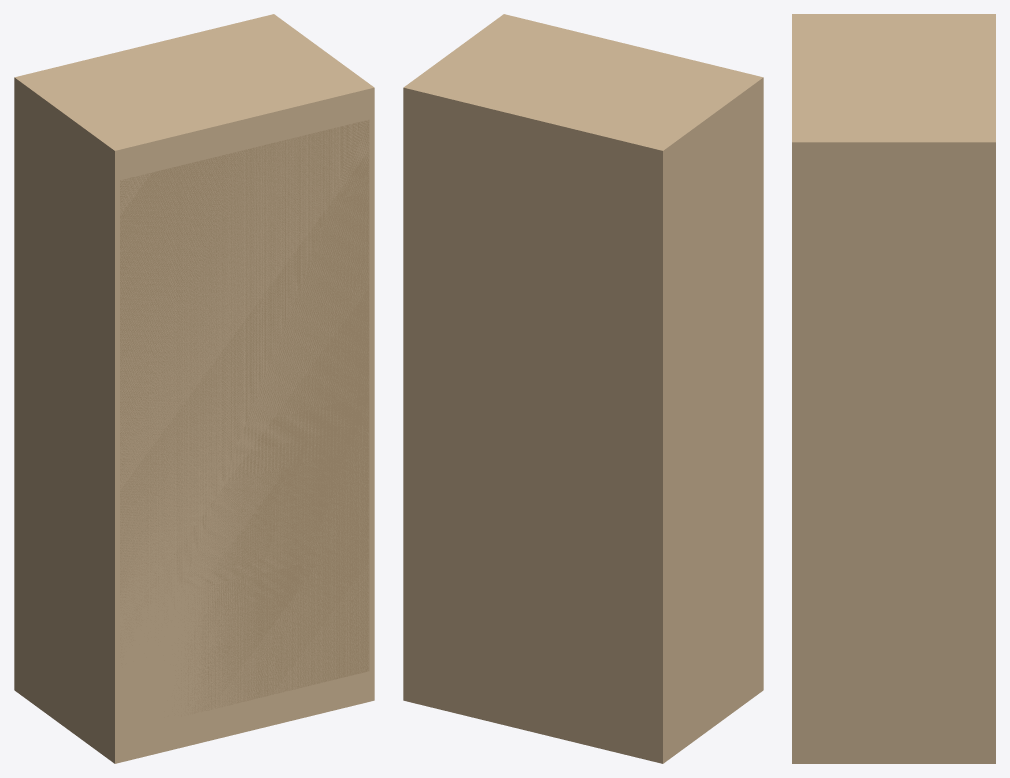
File: rf3-wardrobe-01.glb
The picture shows the model from 3 angles, left to right: view 1: azimuth 30°, elevation 25°; view 2: azimuth 150°, elevation 25°; view 3: azimuth 270°, elevation 25°; orthographic projection.
Bounding box in the file's own units: 0.82 × 1.85 × 0.55.
